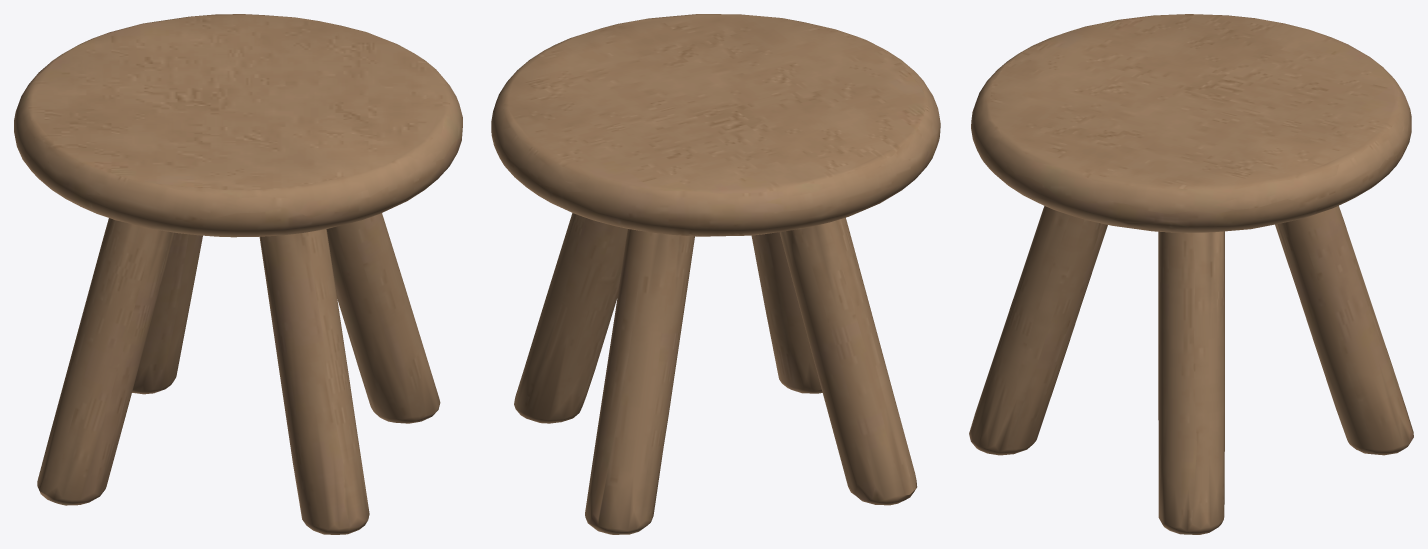
Rendered from stool.glb.
3 views of the same model, side by side, from view 1: azimuth 30°, elevation 25°; view 2: azimuth 150°, elevation 25°; view 3: azimuth 270°, elevation 25° (orthographic). The views are drawn at different scales.
Visible parts, largest first — view 1: stool; view 2: stool; view 3: stool.
Part boxes in pixels (bbox=[...]): stool: bbox=[14, 14, 462, 534]; stool: bbox=[491, 14, 940, 534]; stool: bbox=[969, 14, 1413, 534].
Size of the model in its own units: 0.5255 by 0.4499 by 0.5265.
1 material, 1 textured.
